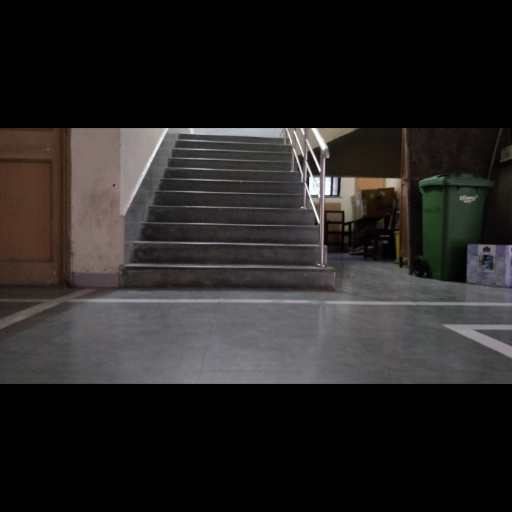Stairs: (123, 134, 318, 286)
